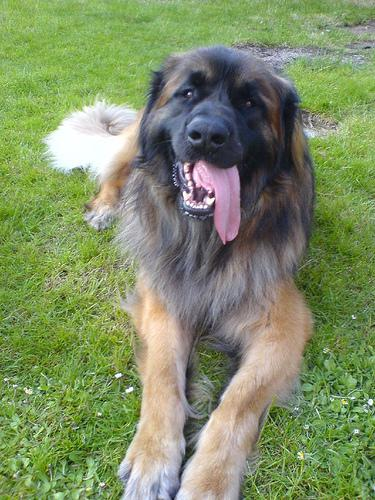dog-leonberger: (131, 45, 305, 244)
